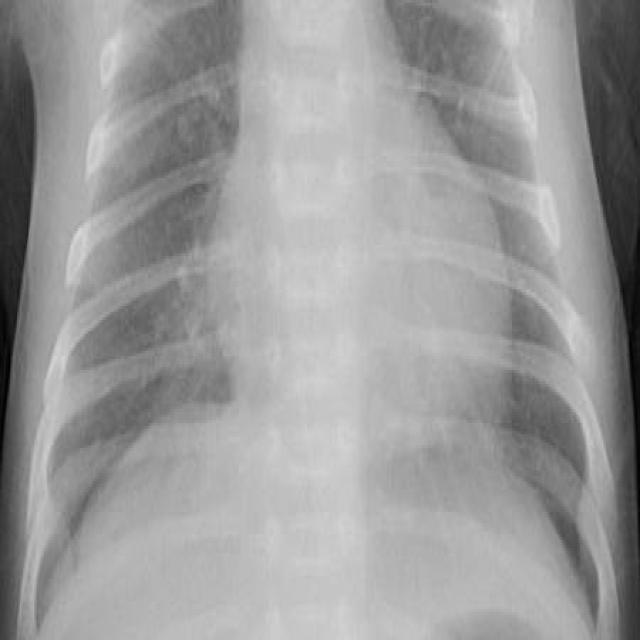low-pneumonia: (144, 242, 218, 415)
